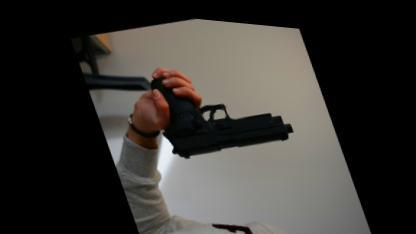pistol: (138, 44, 298, 168)
